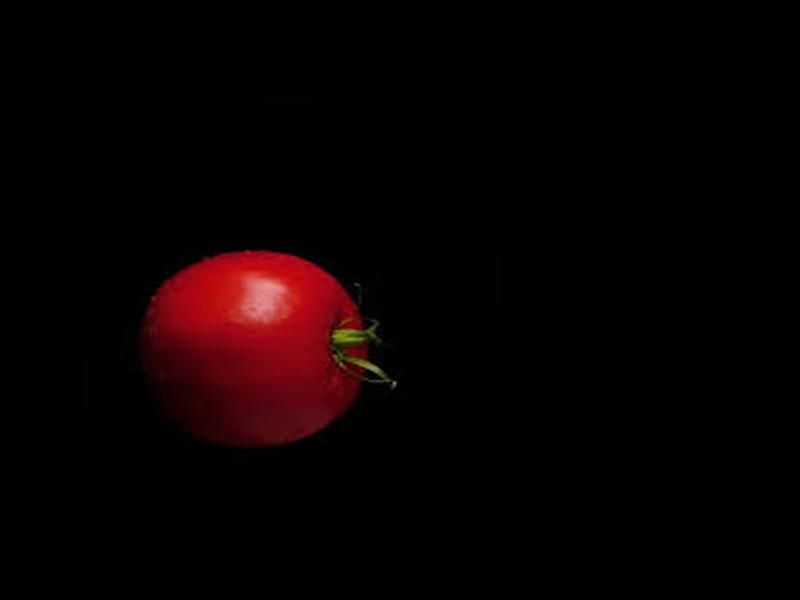Tomato: (144, 249, 369, 448)
